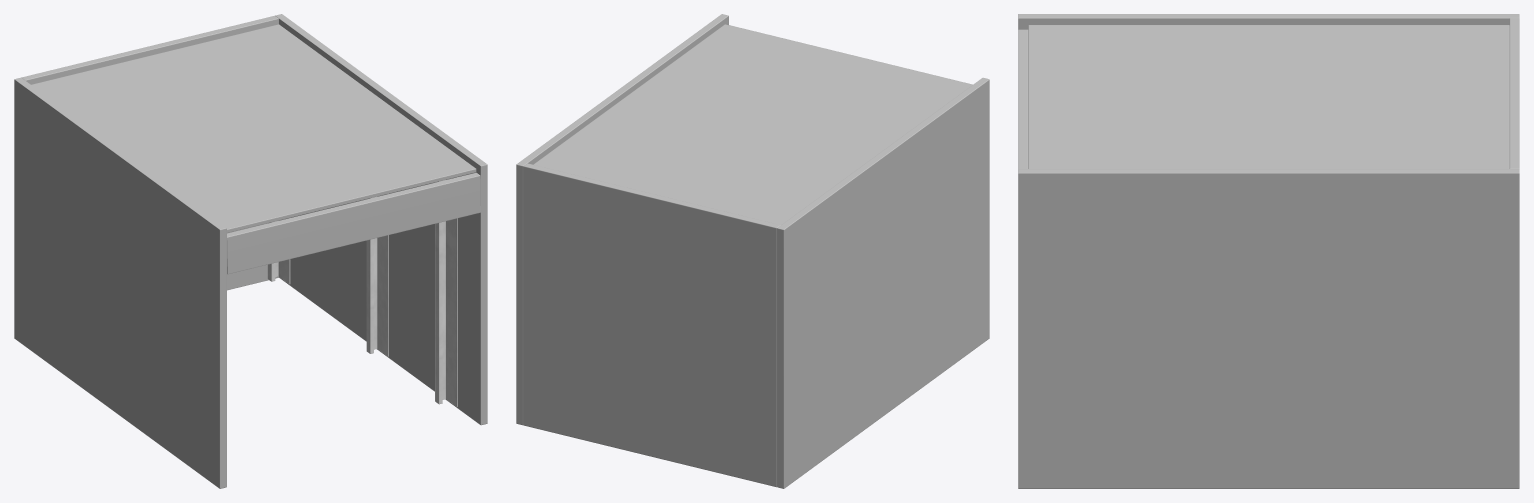
Rendered from SM_Kitchen_09_Base.obj.
3 views of the same model, side by side, from view 1: azimuth 30°, elevation 25°; view 2: azimuth 150°, elevation 25°; view 3: azimuth 270°, elevation 25° (orthographic). The views are drawn at different scales.
Visible parts, largest first — view 1: SM_Kitchen_09_Base; view 2: SM_Kitchen_09_Base; view 3: SM_Kitchen_09_Base.
Part boxes in pixels (x1,y1,x2,y2): SM_Kitchen_09_Base: (14, 14, 487, 488); SM_Kitchen_09_Base: (516, 14, 989, 488); SM_Kitchen_09_Base: (1018, 14, 1519, 488).
Bounding box in the file's own units: 0.5999 × 0.5549 × 0.798.
Materials: 2 (1 with a texture image).
